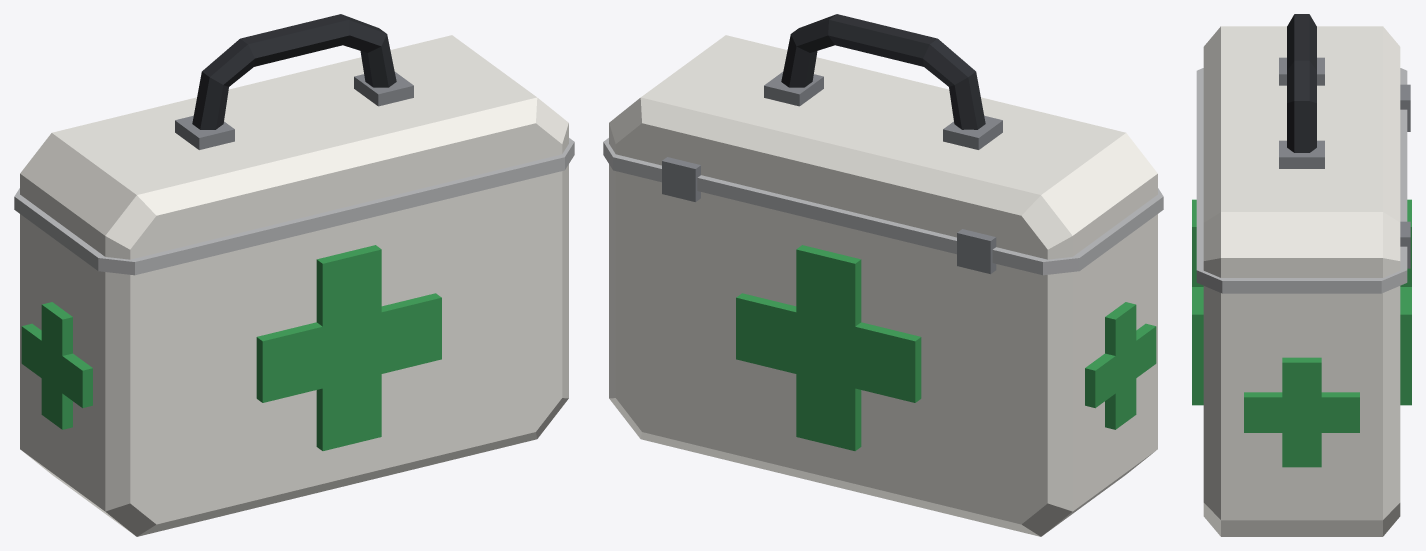
Rendered from pickup_health.glb.
3 renders of one model, left to right at view 1: azimuth 30°, elevation 25°; view 2: azimuth 150°, elevation 25°; view 3: azimuth 270°, elevation 25°, orthographic. The views are drawn at different scales.
Visible parts, largest first — view 1: pickup_health__body; view 2: pickup_health__body; view 3: pickup_health__body.
Part boxes in pixels (box(x1,y1,x2,y2)): pickup_health__body: box(14, 14, 574, 536); pickup_health__body: box(603, 14, 1163, 536); pickup_health__body: box(1192, 14, 1411, 536).
Size of the model in its own units: 0.46 by 0.3879 by 0.19.
Materials: 1 (1 with a texture image).
